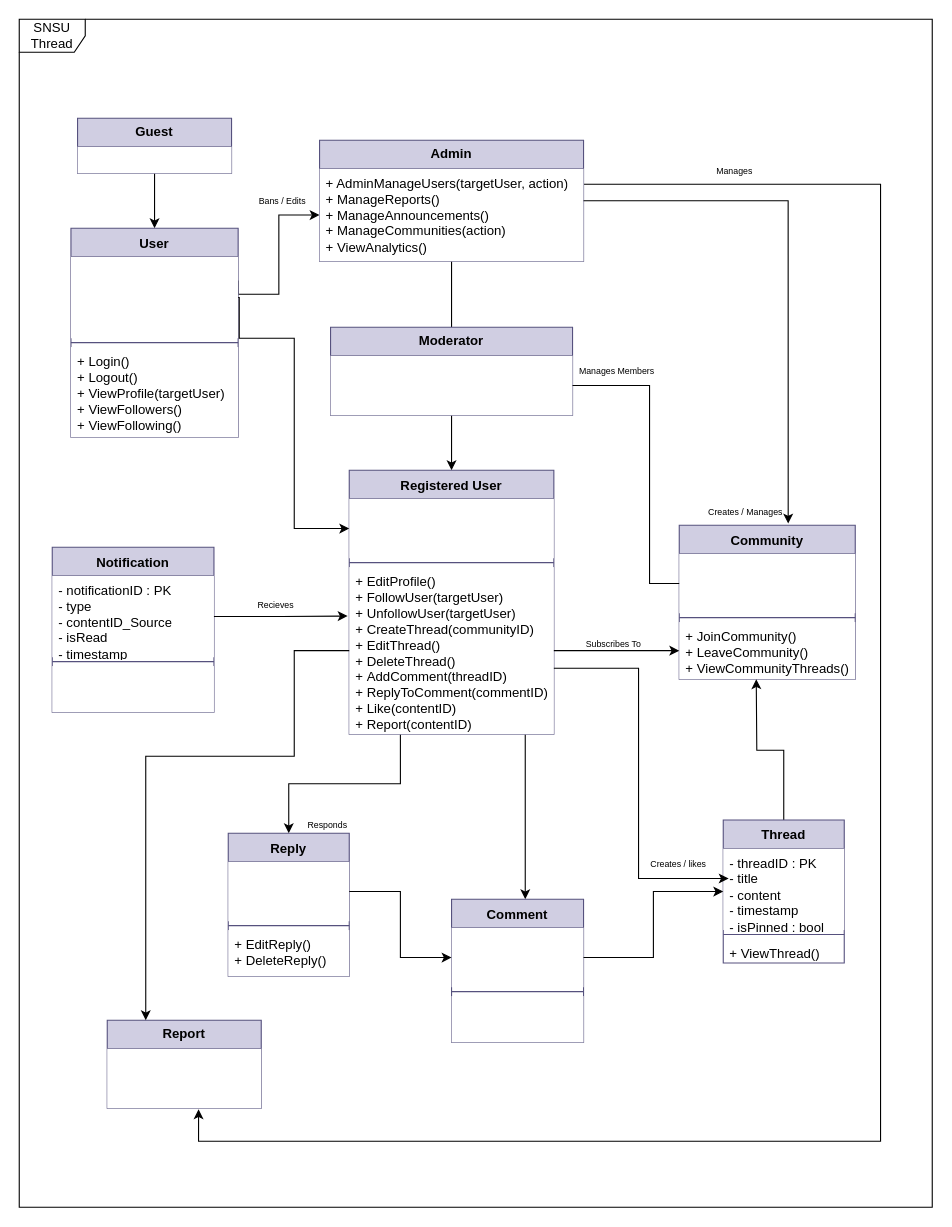
Image size: 952x1227. Some labels were removed from this diagram. The shapes that lost their labels are listed below. From the top down, each one's centre as x and y in pixels, then its label:
pixel 154 159: + RegisterAccount()
pixel 154 297: - userID : PK - email - name - passwordHash
pixel 451 385: + DeleteThread() + PinThread() + ManageCommunityMembers(action)
pixel 451 528: - username - avatarURL - bio
pixel 767 583: - communityID : PK - name - description
pixel 132 689: + ViewNotificationList() + MarkAsRead()
pixel 288 891: - replyID : PK - content - timestamp
pixel 517 957: - commentID : PK - content - timestamp
pixel 517 1019: + EditComment() + DeleteComment()
pixel 184 1078: - reportID : PK - reason - status
